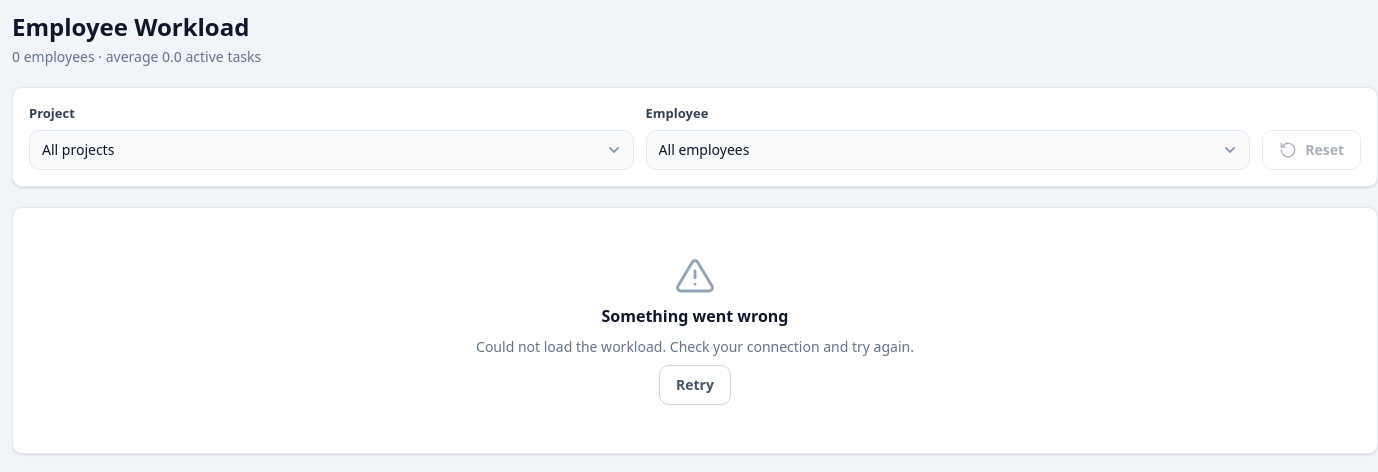
Test: WorkloadComponent › shows the error state and retries
What coordinates should you click on to do the following:
click the button "Retry"
I would click on:
 (695, 384)
Its box is [659,364,731,404].
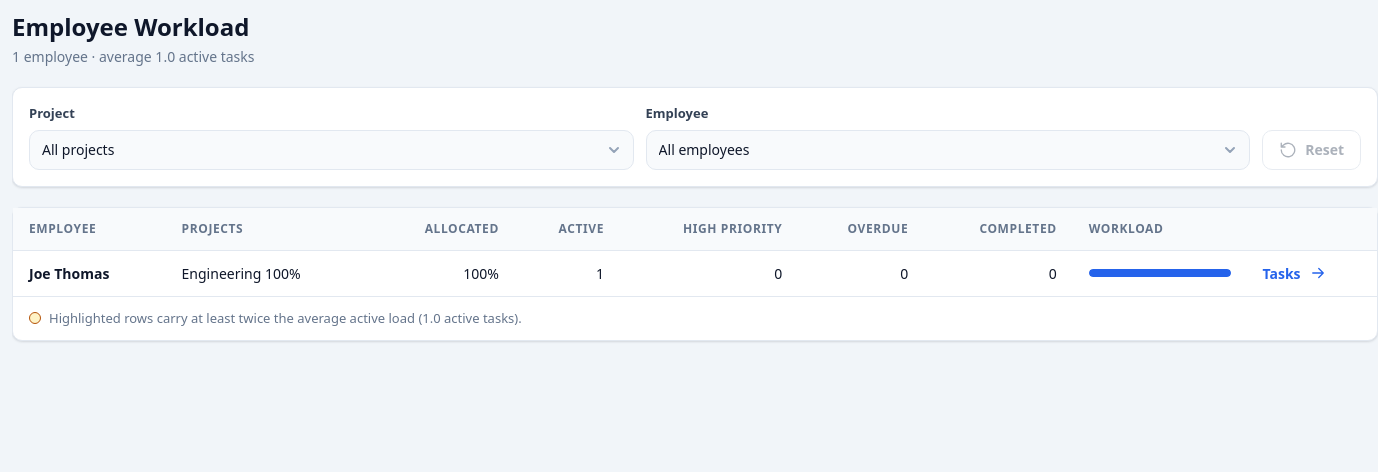
Now the number of rows with class "workload-row" is 1, box [13,250,1377,296]
